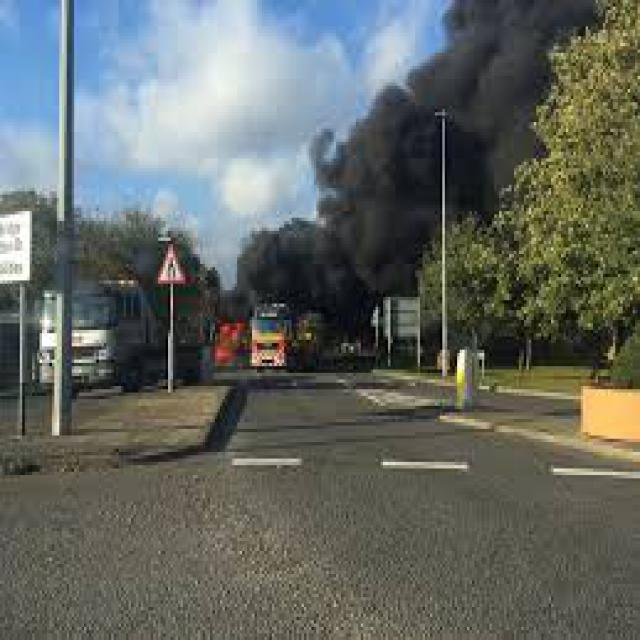smoke: (267, 3, 548, 297)
